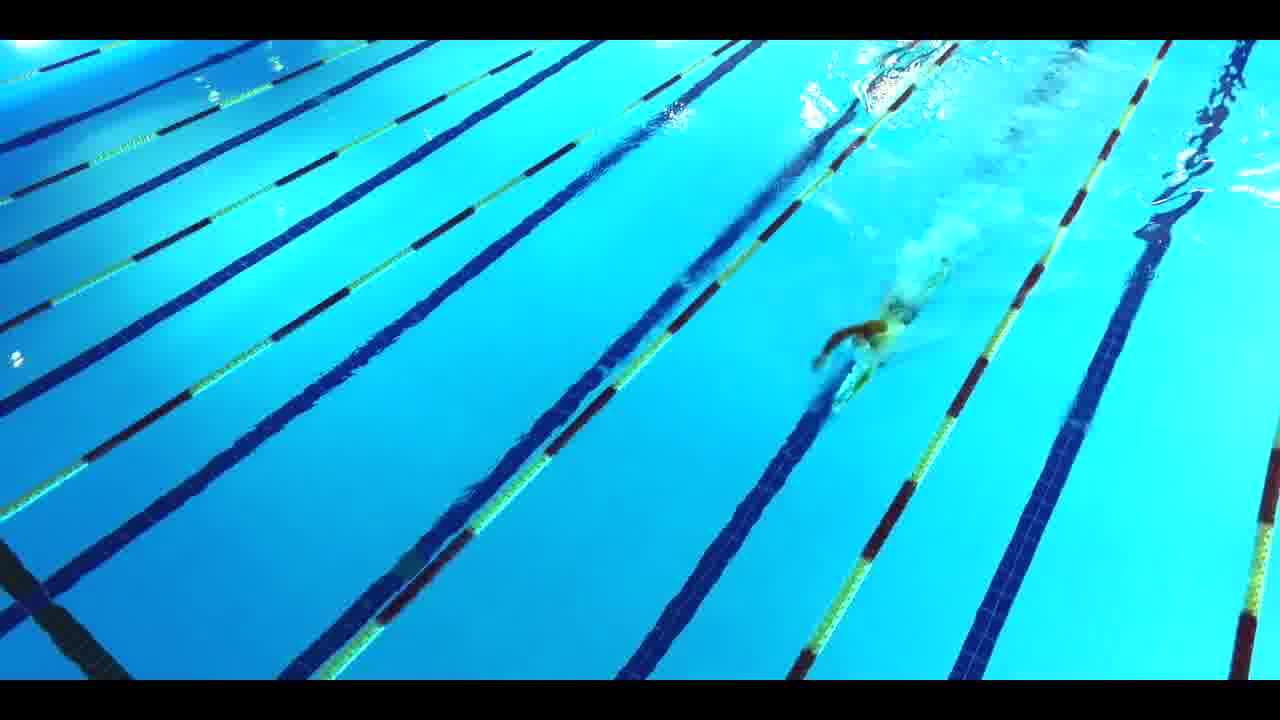human: (830, 305, 899, 356)
